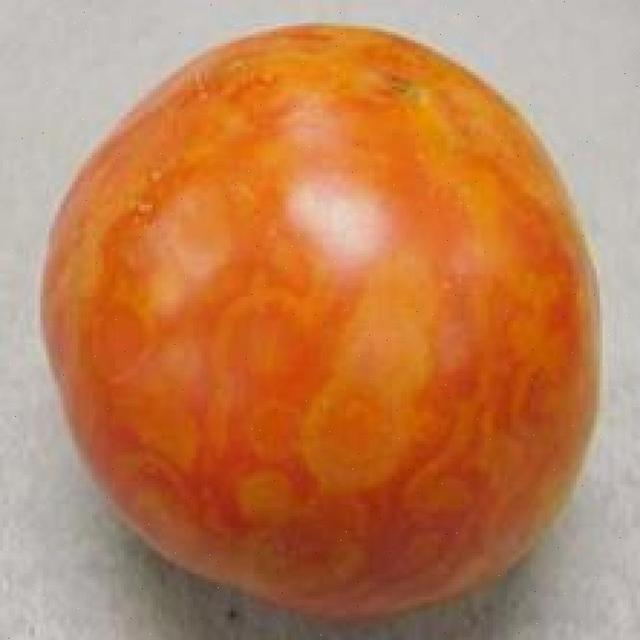Spotted wilt Virus Fruit: (28, 14, 402, 411)
